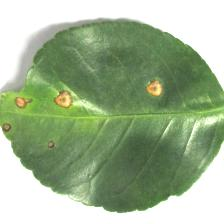greening: (7, 72, 190, 162)
